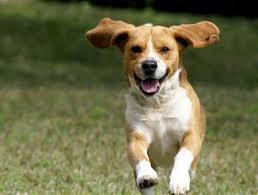dog: (83, 17, 220, 193)
